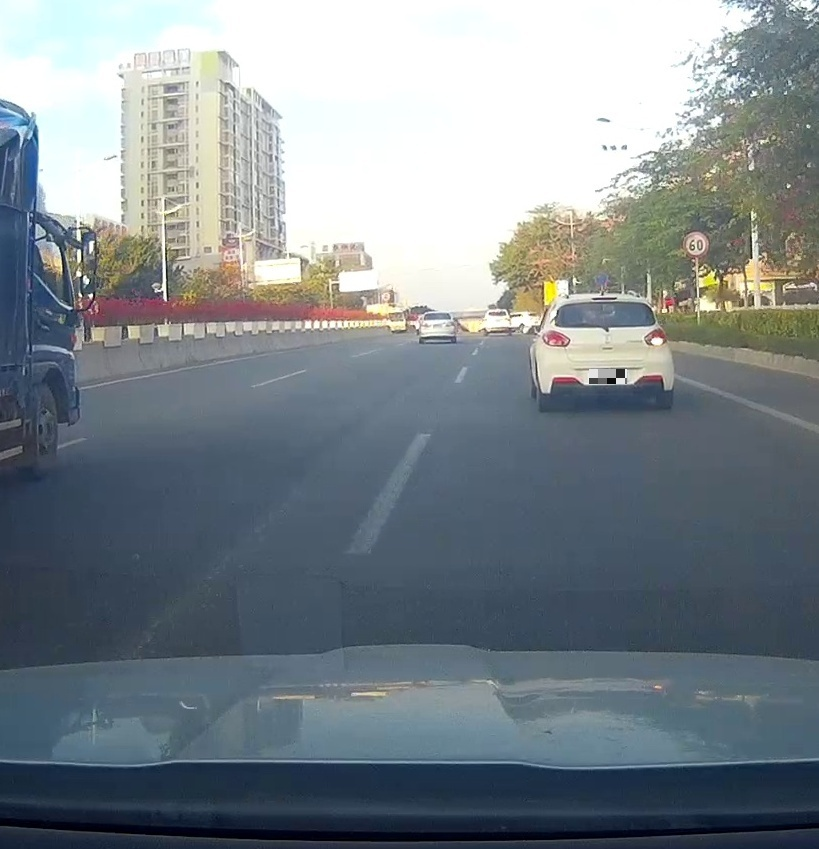L_light: (541, 329, 571, 347), (420, 322, 430, 329)
R_light: (643, 327, 668, 347), (445, 321, 455, 328)
T_light: (589, 296, 619, 302), (433, 311, 441, 314)
day-no: (418, 311, 456, 344)
day-right: (535, 294, 674, 411)
plate_1: (589, 369, 627, 384)
